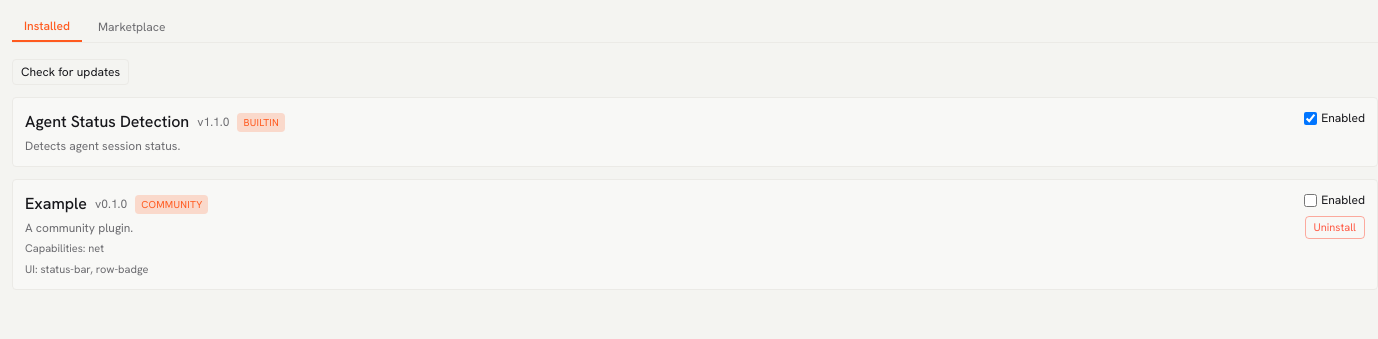
Test: PluginsSettings › Check for updates surfaces an endpoint failure and clears stale badges
Click the button with test id "plugins-check-updates" at [71, 72], box x1=12 y1=59 x2=129 y2=85
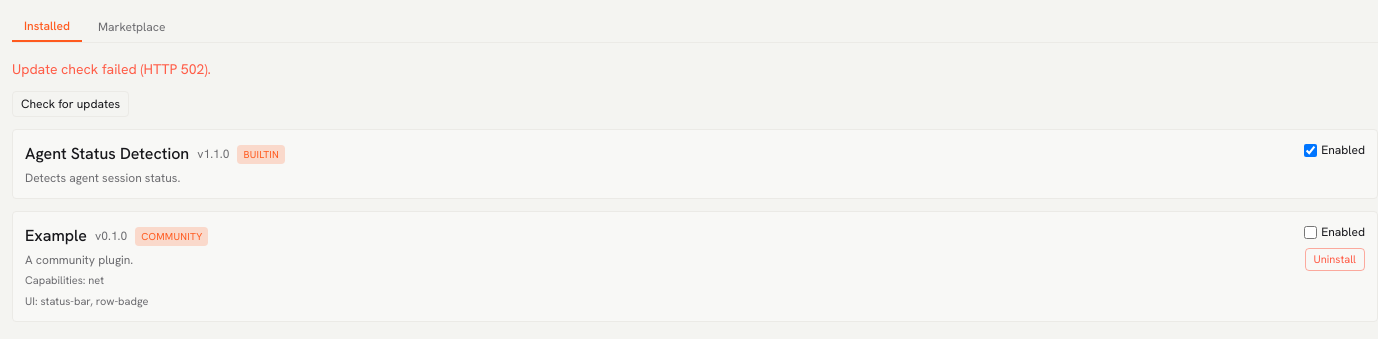
Check: the text "Update check failed (HTTP 502)." is shown, box x1=12 y1=60 x2=211 y2=78
